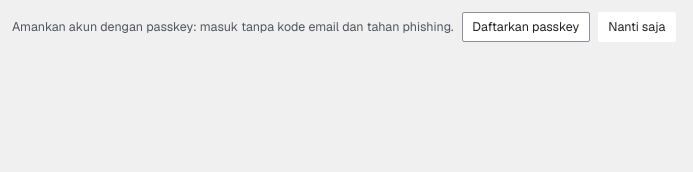
Scenario: passkey nudge › asks a doctor without a passkey to add one, and enrols through Clerk on this device
The image size is (693, 172).
Step 1. Click the button "Daftarkan passkey" → (526, 27), box [462,12,590,42]
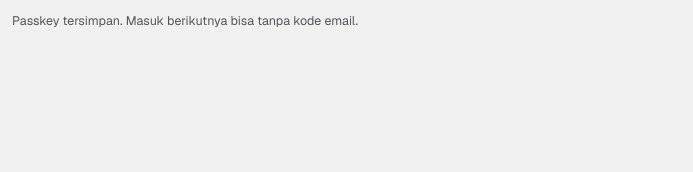
Expected: the message shows "Passkey tersimpan", [12,12,358,29]
